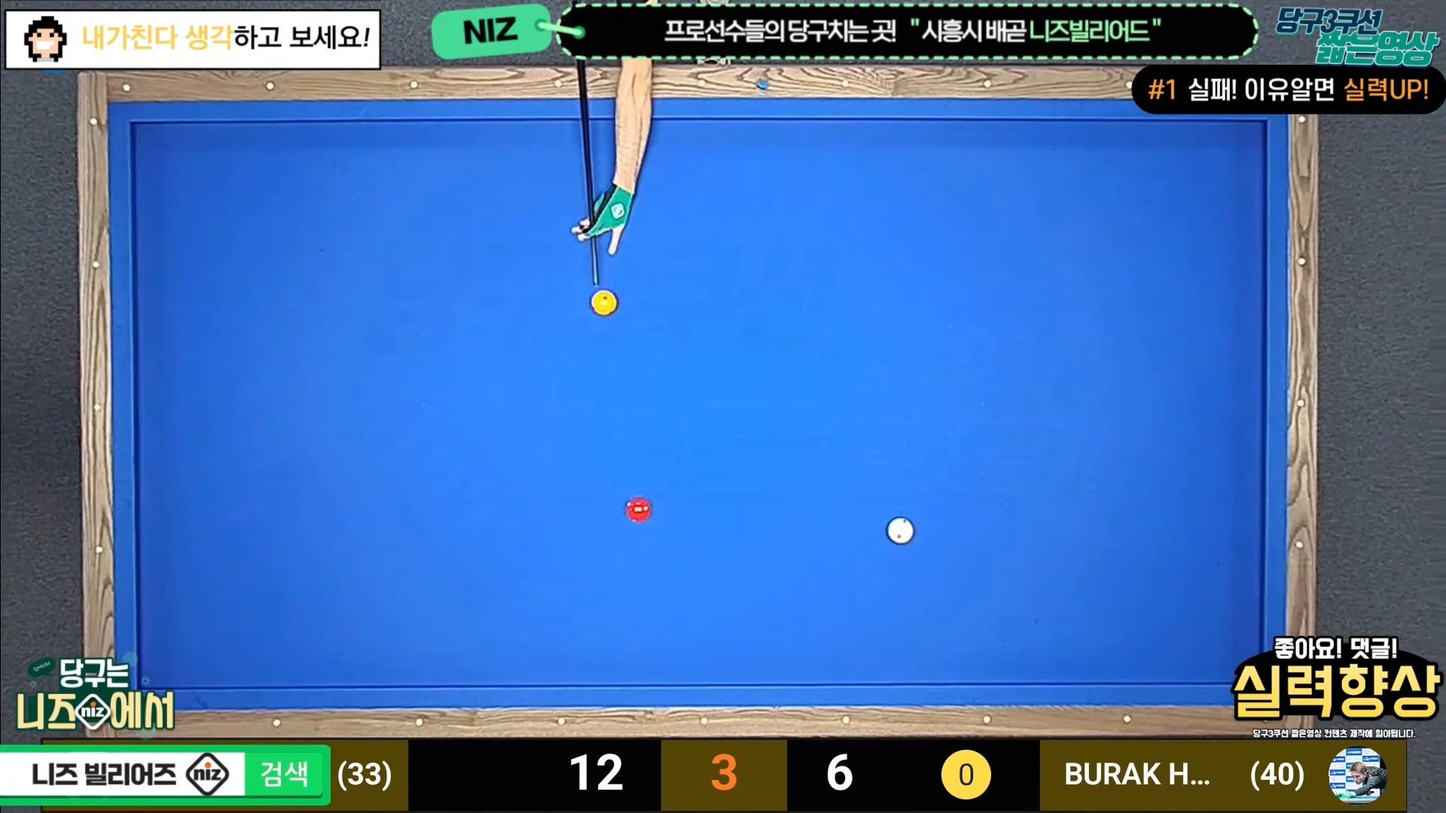billiard-ball-Red: (627, 500, 652, 523)
billiard-ball-Yellow: (592, 290, 619, 315)
billiard-ball-white: (885, 516, 914, 545)
